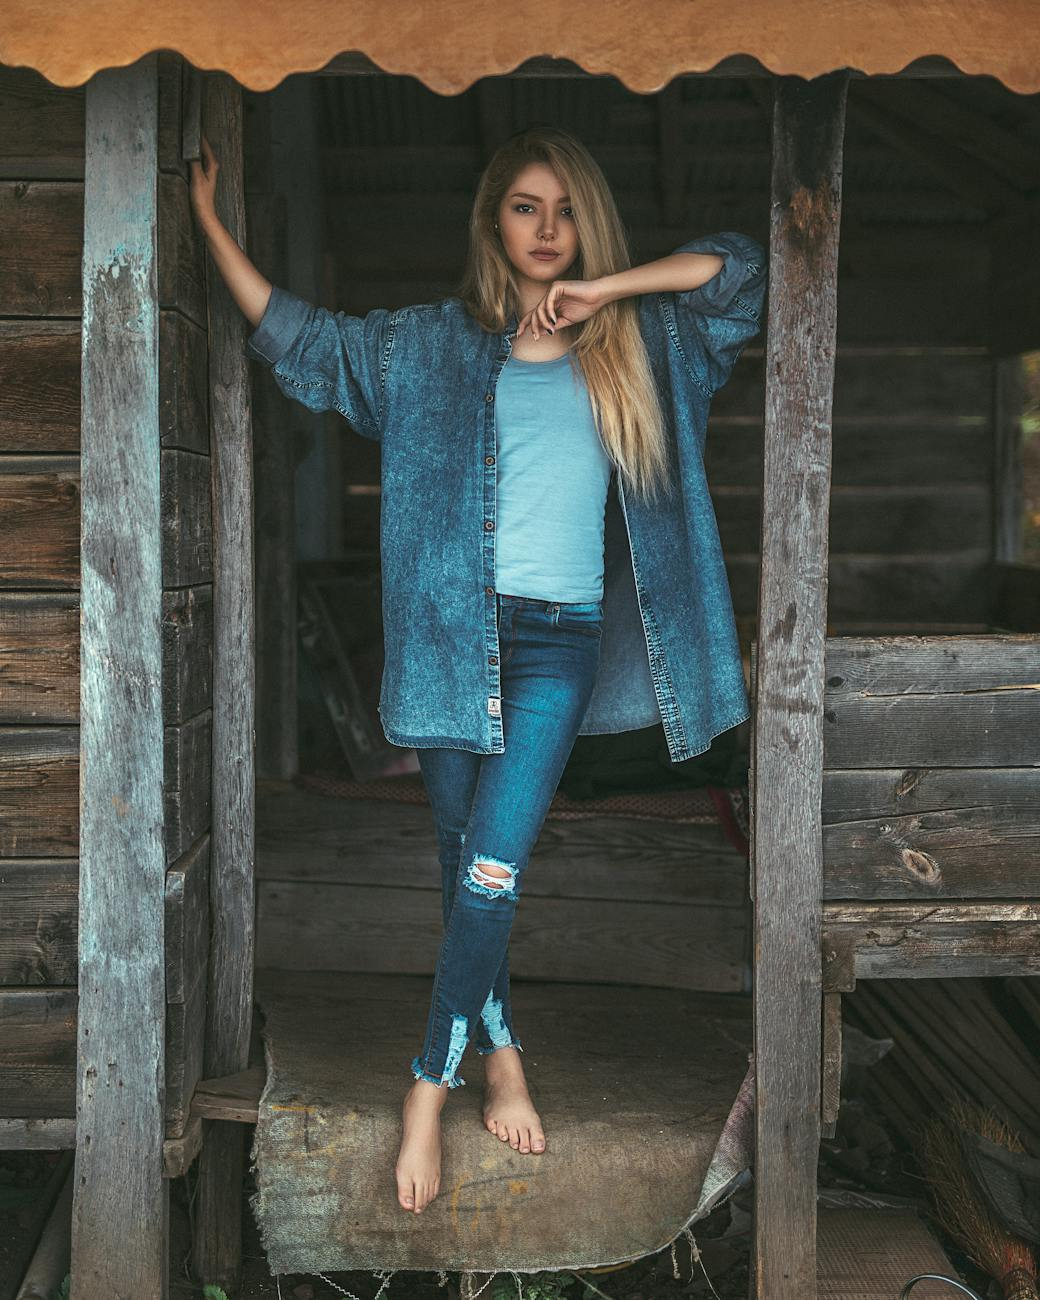opened_foot: (383, 1077, 460, 1216), (478, 1045, 551, 1157)
ripped_jeans: (399, 589, 572, 1085)
